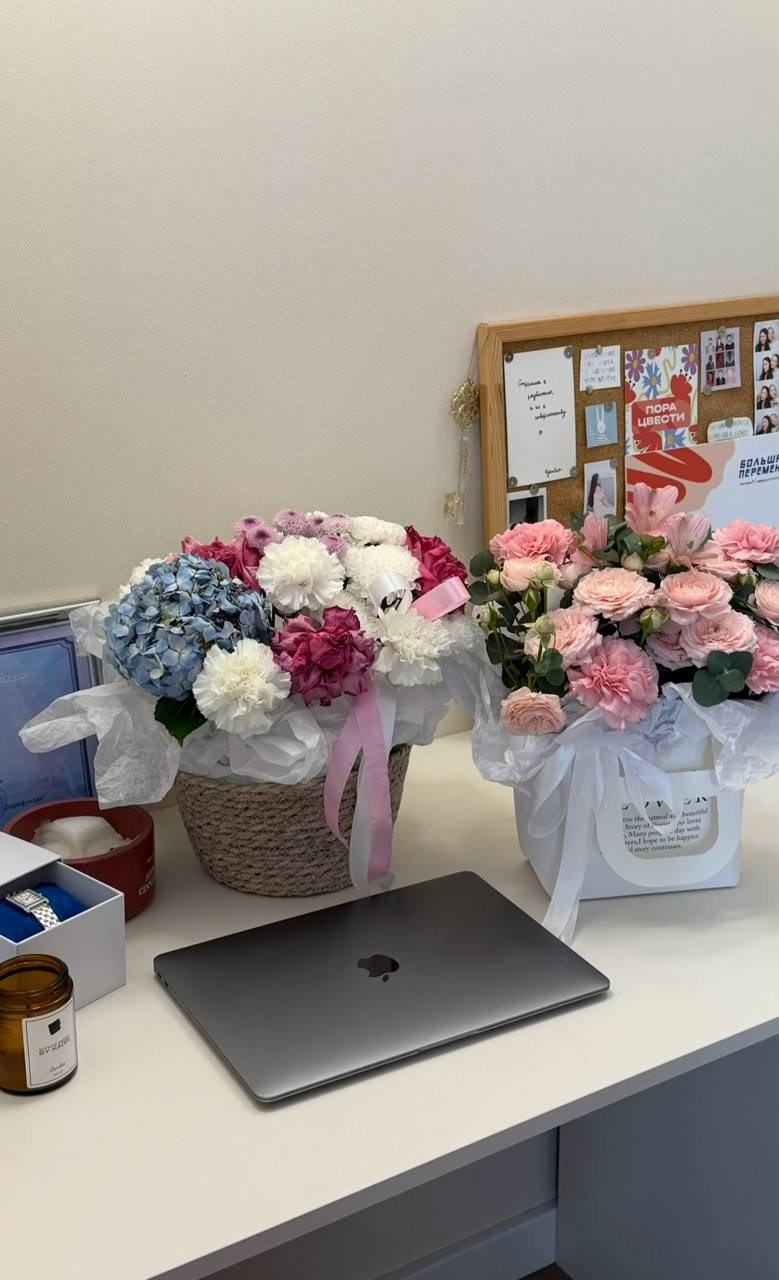laptop: (153, 869, 610, 1104)
